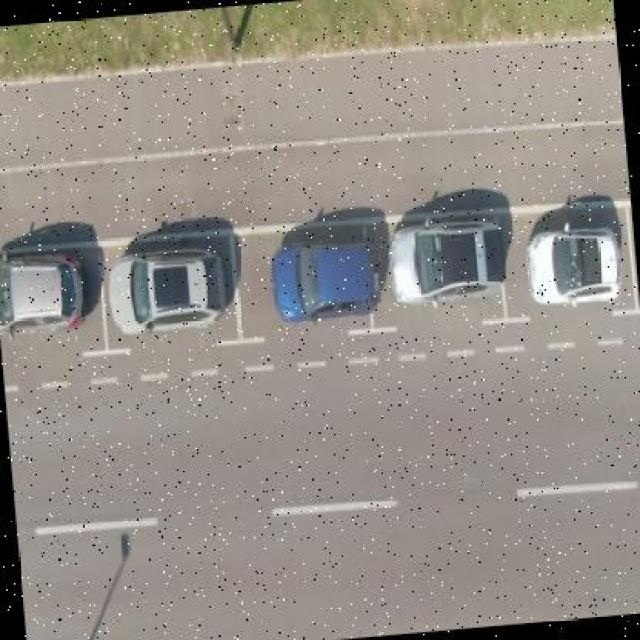Car: (387, 217, 513, 308), (273, 233, 386, 326), (109, 258, 232, 335), (527, 224, 627, 312), (1, 251, 93, 342)
